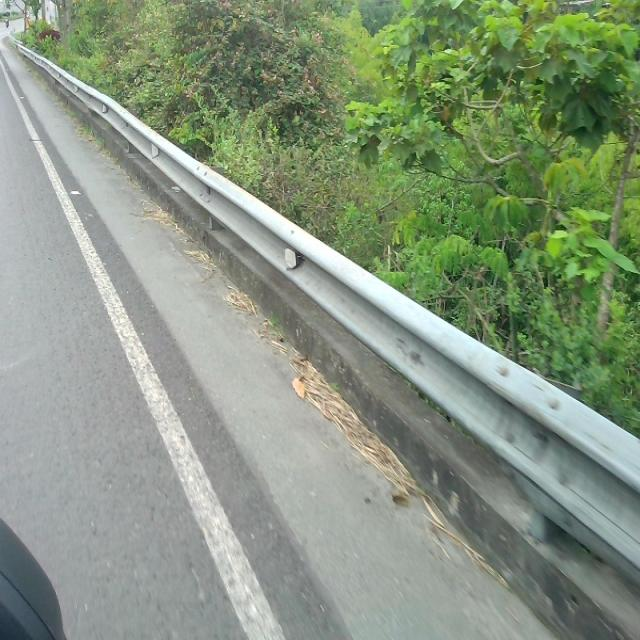DITCH: (3, 27, 637, 638)
